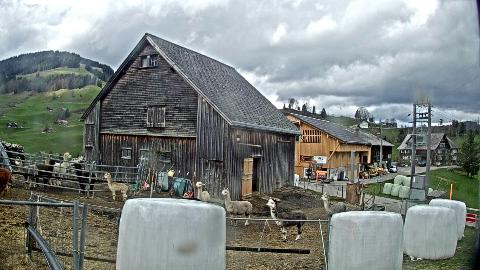car: (388, 165, 398, 173), (418, 161, 426, 167)
sheep: (266, 196, 308, 242), (221, 187, 253, 227), (48, 152, 72, 186), (104, 171, 128, 202), (14, 156, 36, 188), (34, 158, 56, 190), (74, 162, 96, 193), (321, 191, 347, 217), (194, 180, 210, 204), (0, 168, 12, 196)
